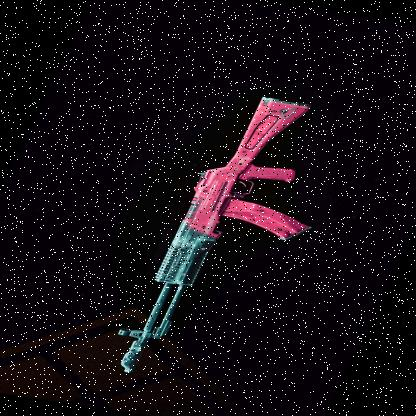rifle: (89, 78, 369, 393)
